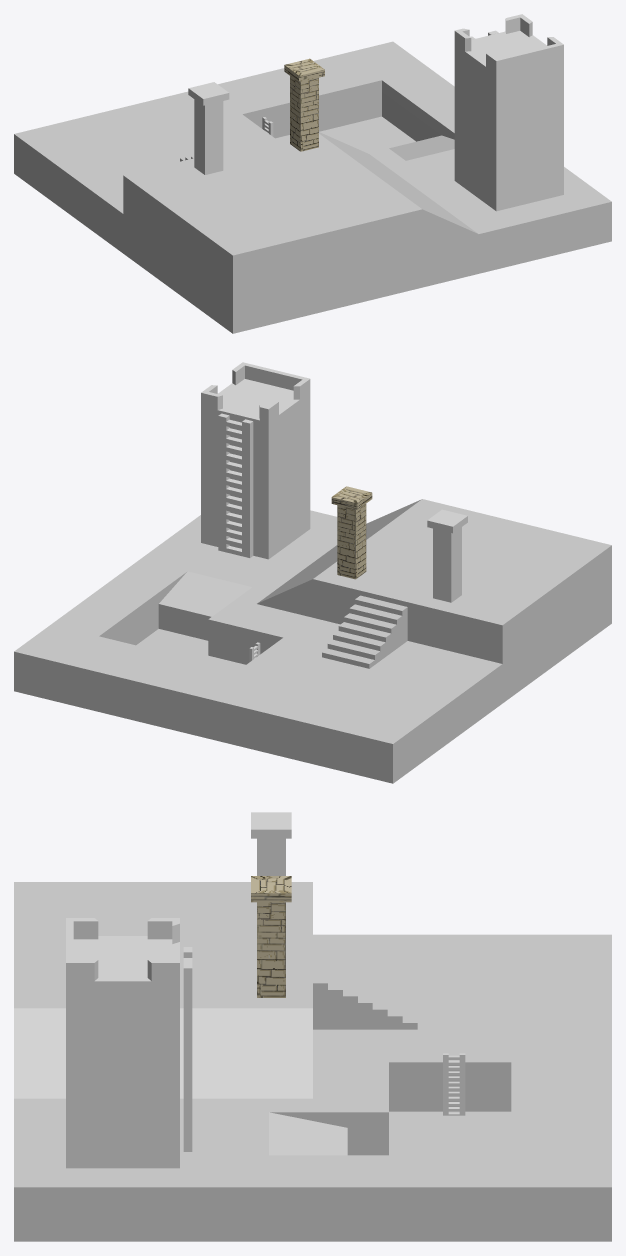
3 views of the same model, one above another, from view 1: azimuth 30°, elevation 25°; view 2: azimuth 150°, elevation 25°; view 3: azimuth 270°, elevation 25° (orthographic). The views are drawn at different scales.
Visible parts, largest first — view 1: Cube.001, 立方体.002, 立方体.001, 立方体; view 2: Cube.001, 立方体.002, 立方体.003, 立方体, 立方体.001; view 3: Cube.001, 立方体.002, 立方体, 立方体.001, 立方体.003, 立方体.004.
Part boxes in pixels (x1=…): Cube.001: x1=14, y1=41, x2=611, y2=333; 立方体.002: x1=454, y1=14, x2=563, y2=211; 立方体.001: x1=188, y1=82, x2=229, y2=174; 立方体: x1=284, y1=58, x2=324, y2=151; Cube.001: x1=14, y1=499, x2=611, y2=783; 立方体.002: x1=201, y1=362, x2=310, y2=559; 立方体.003: x1=218, y1=413, x2=253, y2=557; 立方体: x1=331, y1=486, x2=372, y2=579; 立方体.001: x1=427, y1=509, x2=467, y2=602; Cube.001: x1=14, y1=882, x2=611, y2=1241; 立方体.002: x1=66, y1=918, x2=179, y2=1168; 立方体: x1=251, y1=876, x2=291, y2=997; 立方体.001: x1=251, y1=812, x2=291, y2=875; 立方体.003: x1=183, y1=947, x2=192, y2=1151; 立方体.004: x1=443, y1=1053, x2=465, y2=1115.
Bounding box in the file's own units: 20 × 10.19 × 20.
Materials: 2 (1 with a texture image).
